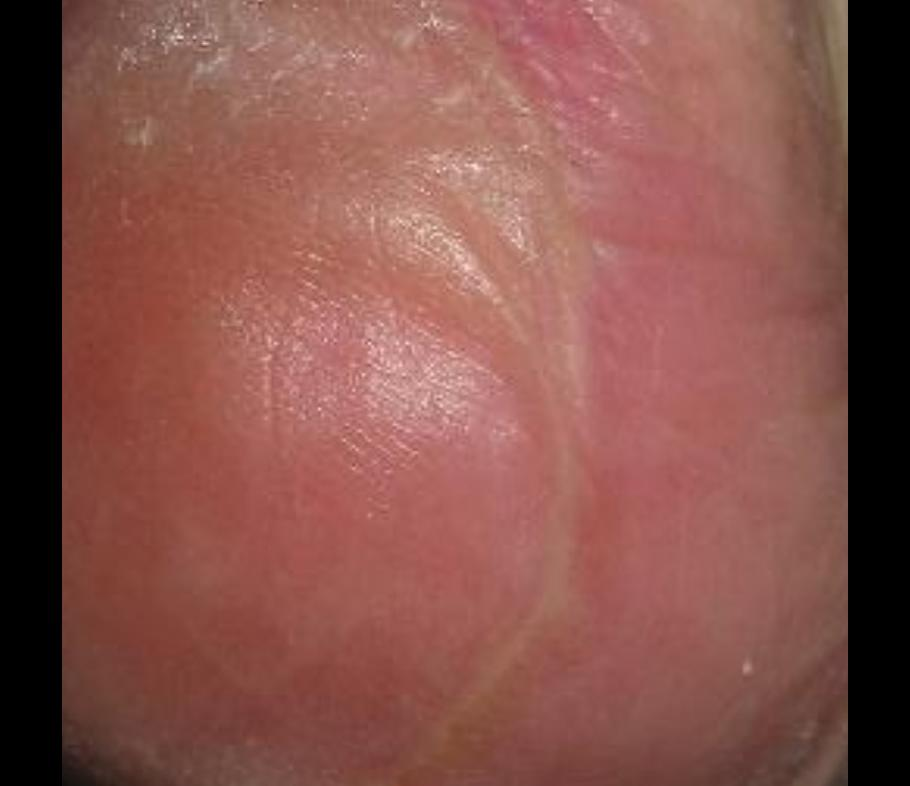Stage1: (62, 0, 848, 786)
